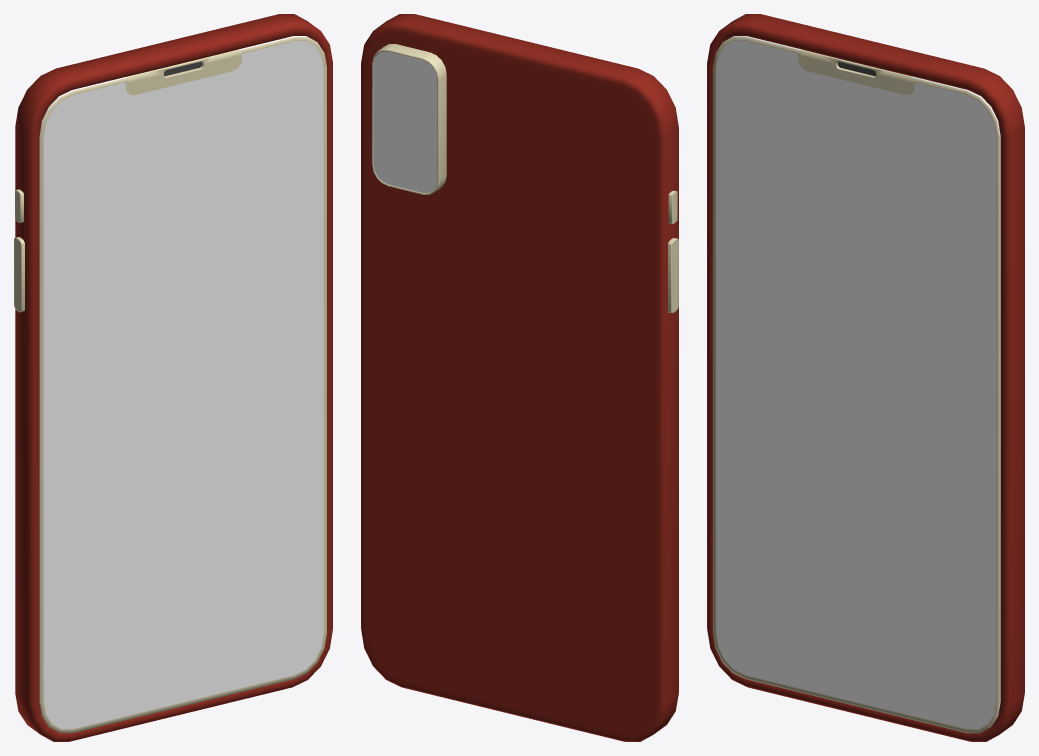
Rendered from Smartphone.glb.
3 views of the same model, side by side, from view 1: azimuth 30°, elevation 25°; view 2: azimuth 150°, elevation 25°; view 3: azimuth 330°, elevation 25° (orthographic).
Parts seen in each view (by area): view 1: SmartPhone_Screen, SmartPhone_Body, SmartPhone_Switch.002; view 2: SmartPhone_Body, SmartPhone_Glass_Back camera, SmartPhone_edge camera base, SmartPhone_Switch.002; view 3: SmartPhone_Screen, SmartPhone_Body.
Part boxes in pixels (box(x1,y1,x2,y2)): SmartPhone_Screen: box(39, 36, 326, 733); SmartPhone_Body: box(15, 14, 332, 741); SmartPhone_Switch.002: box(14, 237, 24, 312); SmartPhone_Body: box(361, 14, 678, 741); SmartPhone_Glass_Back camera: box(373, 51, 437, 192); SmartPhone_edge camera base: box(372, 44, 446, 194); SmartPhone_Switch.002: box(668, 238, 678, 313); SmartPhone_Screen: box(713, 36, 1000, 733); SmartPhone_Body: box(707, 14, 1024, 741).
Bounding box in the file's own units: 1.31 × 2.7 × 0.1922.
